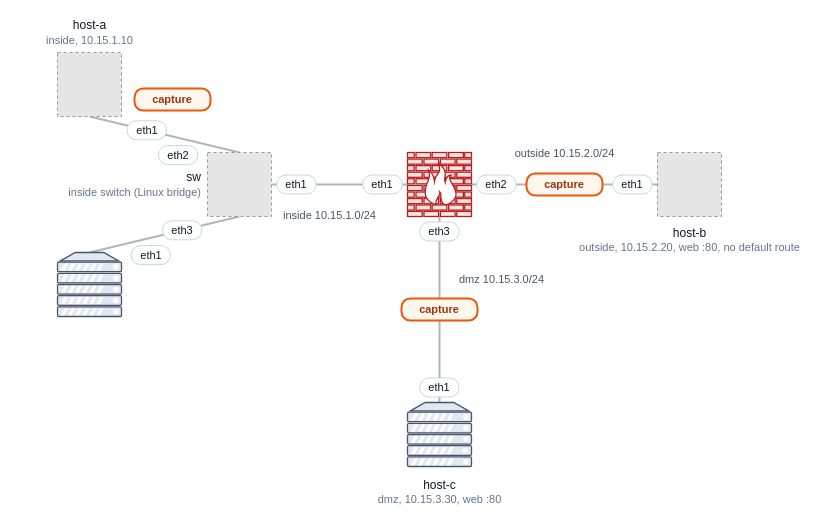
Some shapes in this 817 by 524 pixel diagram are drawn without their labels. Grey dashed boxes stand in for pictures. Here are the shapes that lost their labels. From the top down, the centre of each, then its label:
the point at 439,184: fw Linux nftables NAT + conntrack, outside 10.15.2.1 = public
the point at 89,284: host-d inside, 10.15.1.40, web :8080
